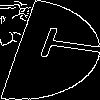T: (25, 25, 100, 65)
